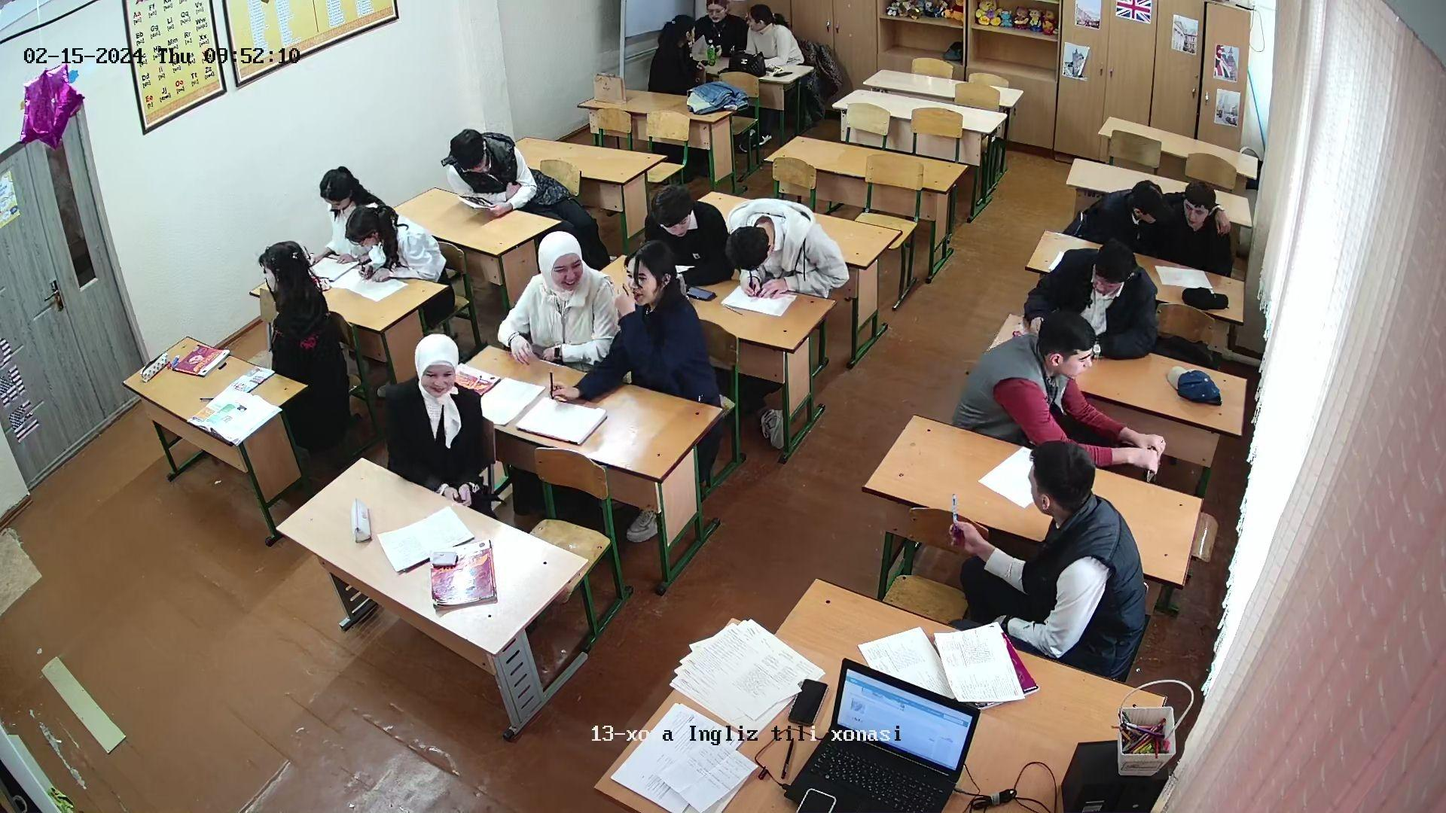Bend Over The Desk: (443, 122, 536, 227)
Hand Under Table: (690, 348, 724, 434)
Look Around: (999, 439, 1116, 646), (526, 236, 596, 355), (622, 241, 674, 351), (1115, 170, 1171, 246), (408, 342, 464, 408), (655, 17, 702, 95), (745, 4, 792, 67)
Normal: (741, 181, 844, 300), (1062, 238, 1158, 312), (347, 216, 418, 290), (318, 167, 381, 211), (704, 0, 741, 58), (1183, 175, 1217, 235)
Stand Up: (261, 241, 328, 459)
